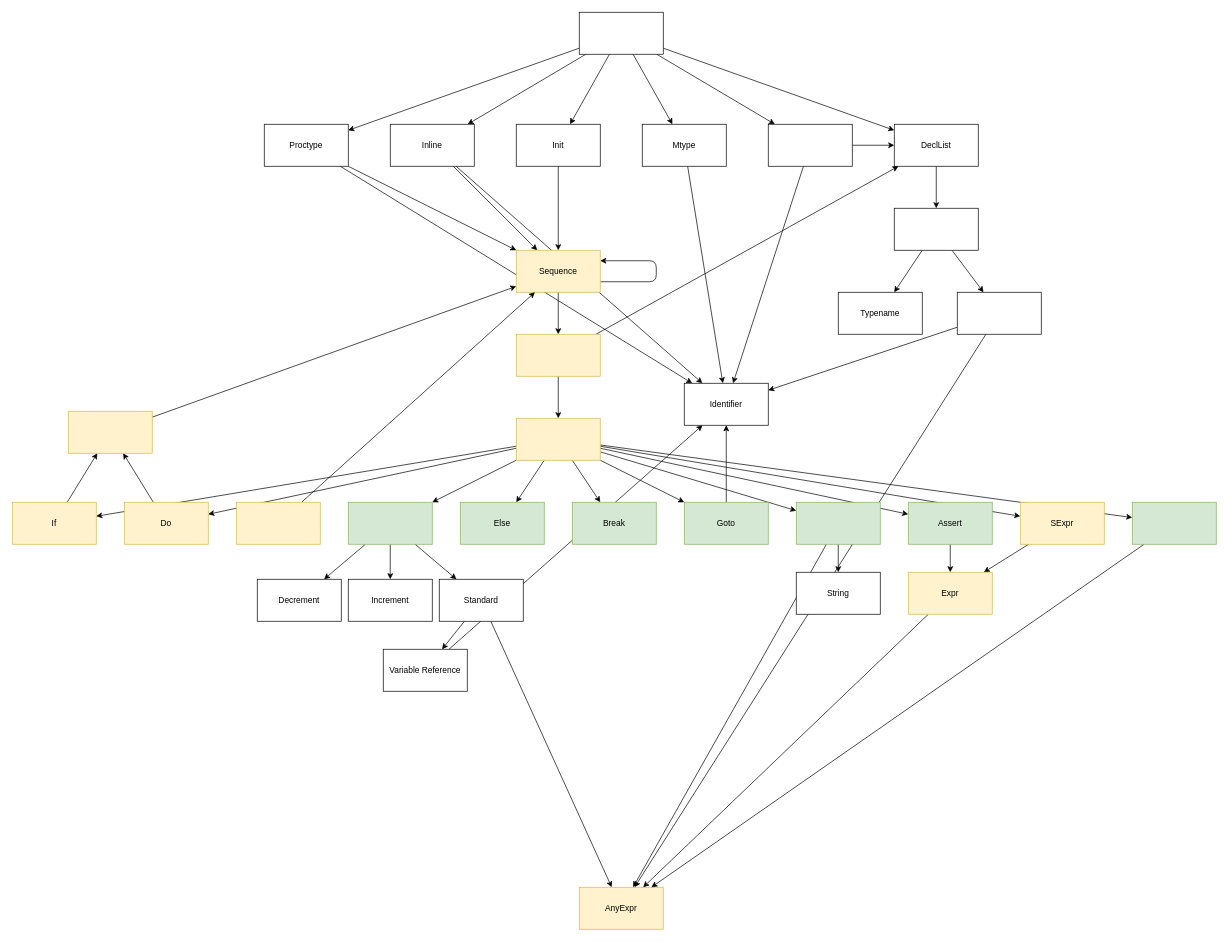
Image size: 1229x942. Some labels were removed from this diagram. The shapes that lost their labels are listed below. From the top down, each one's box as (x1, y1, x2, y2) in pixels, then its label:
(579, 12, 663, 54): START
(768, 124, 852, 166): Struct
(894, 208, 978, 250): Decl
(957, 292, 1041, 334): Ivar
(516, 334, 600, 376): Step
(68, 411, 152, 453): Options
(516, 418, 600, 460): Statement
(236, 502, 320, 544): Atomic
(348, 502, 432, 544): Assign
(796, 502, 880, 544): Print
(1132, 502, 1216, 544): Call
